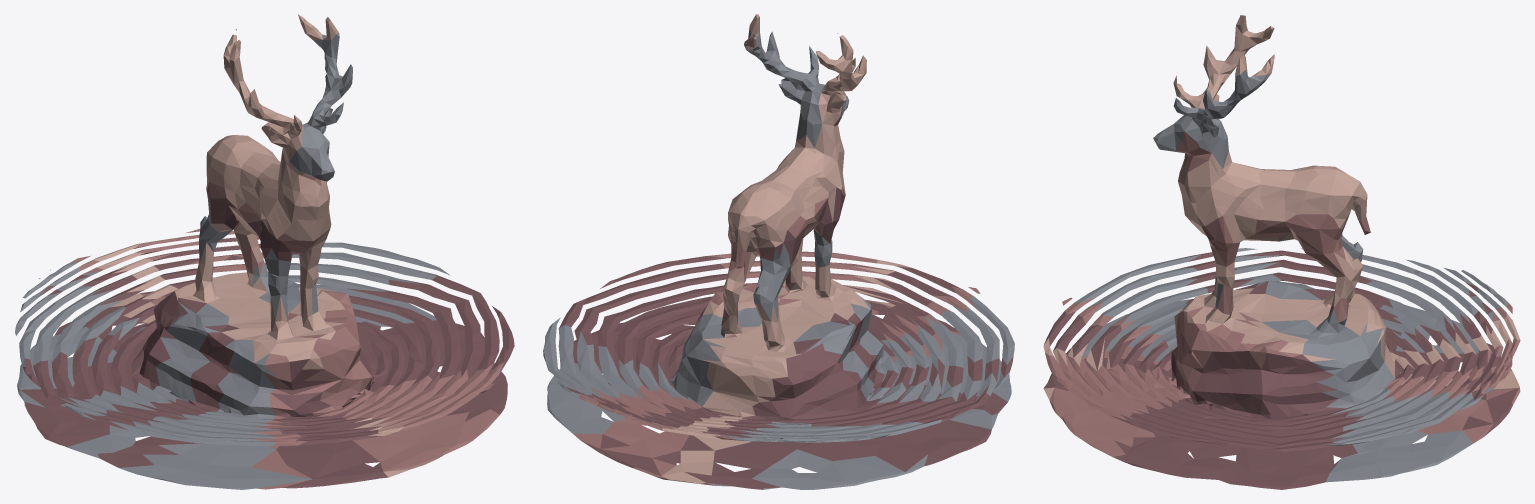
The model's file is statue.glb.
The picture shows the model from 3 angles, left to right: view 1: azimuth 30°, elevation 25°; view 2: azimuth 150°, elevation 25°; view 3: azimuth 270°, elevation 25°; orthographic projection. The views are drawn at different scales.
Visible parts, largest first — view 1: geometry_0; view 2: geometry_0; view 3: geometry_0.
Boxes of the visible parts, x1,y1,x2,y2 form: geometry_0: [15, 14, 514, 489]; geometry_0: [543, 14, 1014, 489]; geometry_0: [1043, 15, 1520, 489].
Size of the model in its own units: 1.99 by 1.65 by 1.98.
